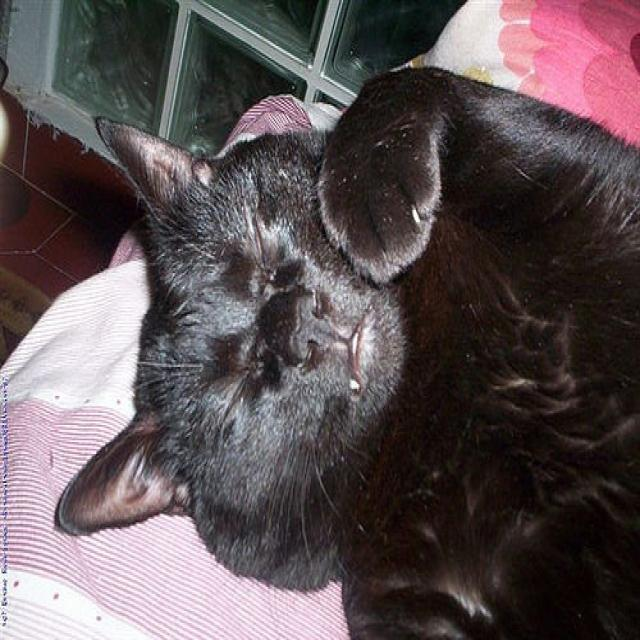Bombay: (49, 111, 436, 585)
